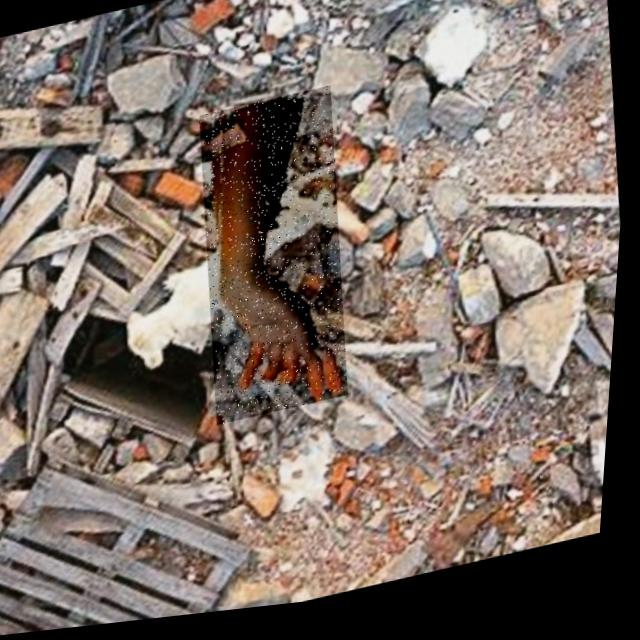Person in Rubble: (184, 88, 370, 433)
